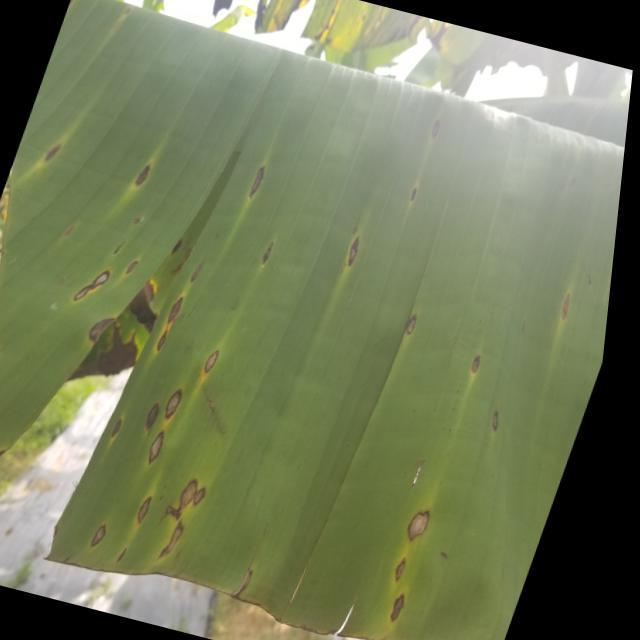Early_rust: (4, 68, 512, 639)
